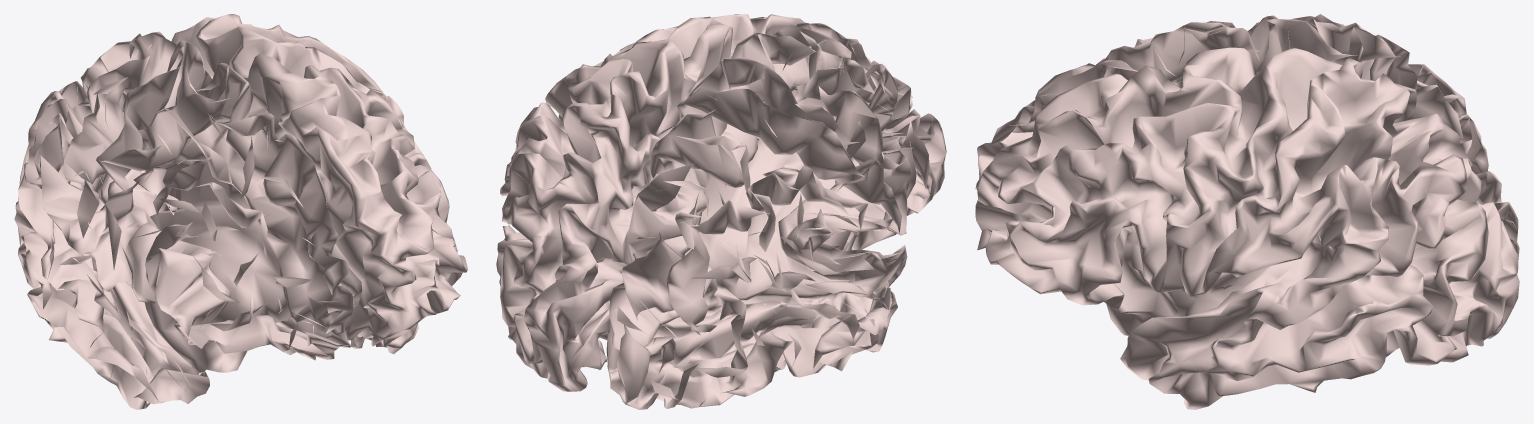
The model's file is zanatomy-cerebrum.glb.
3 renders of one model, left to right at view 1: azimuth 30°, elevation 25°; view 2: azimuth 150°, elevation 25°; view 3: azimuth 270°, elevation 25°, orthographic. The views are drawn at different scales.
Parts seen in each view (by area): view 1: zb_cerebrum; view 2: zb_cerebrum; view 3: zb_cerebrum.
Boxes of the visible parts, x1,y1,x2,y2 form: zb_cerebrum: [14, 14, 467, 409]; zb_cerebrum: [496, 14, 946, 409]; zb_cerebrum: [975, 14, 1519, 409].
Size of the model in its own units: 0.1297 by 0.1095 by 0.1744.
